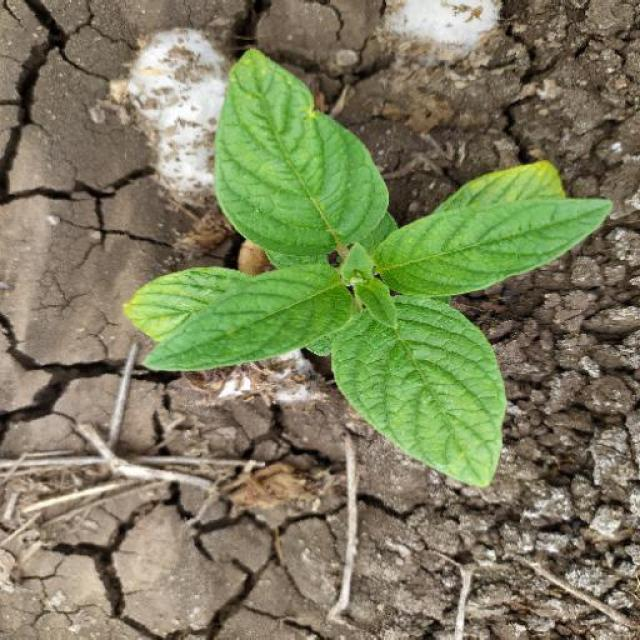crop: (110, 54, 609, 498)
